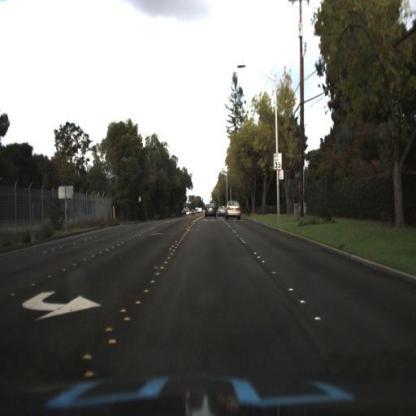car: (223, 198, 243, 220), (202, 198, 218, 221)
